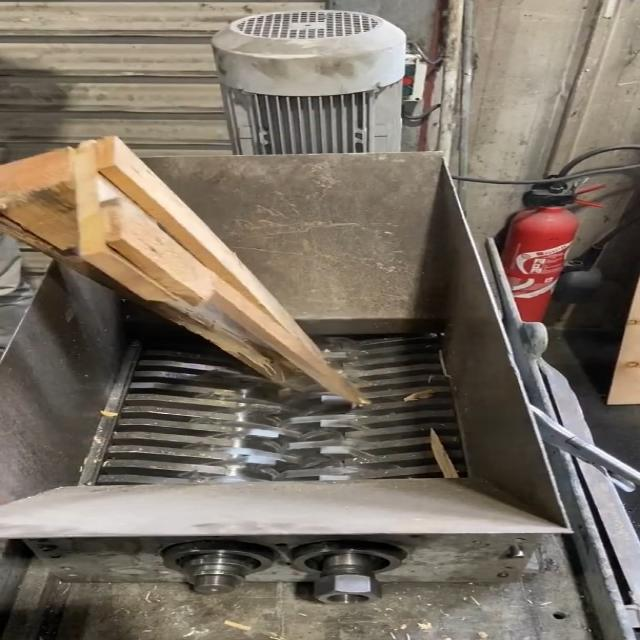Broyeur: (67, 308, 482, 518)
Palette: (0, 132, 354, 412)
